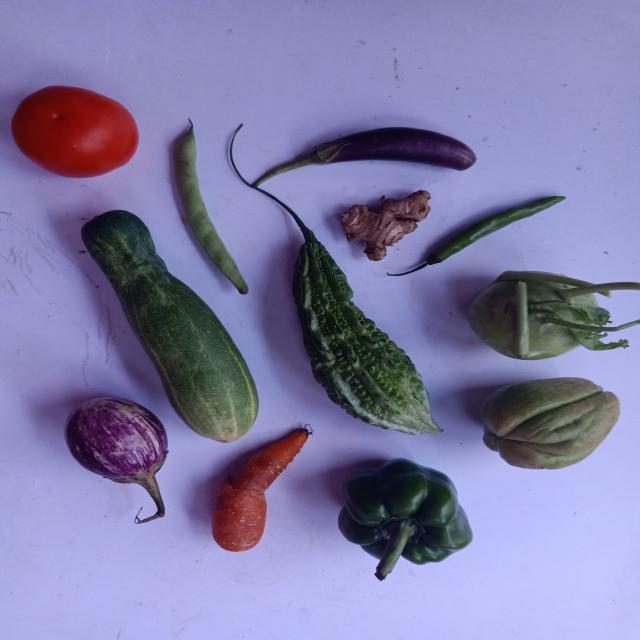Beans: (173, 120, 248, 294)
Bitter Gourd: (254, 187, 440, 434)
Brinjal: (253, 127, 476, 186), (253, 127, 476, 185)
Capsicum: (338, 459, 473, 581)
Carrot: (211, 429, 308, 552)
Chayote: (482, 378, 621, 470)
Cucumber: (80, 210, 258, 443)
Eggplant: (64, 398, 167, 524), (140, 464, 143, 467)
Ginger: (340, 190, 431, 261)
Green Chilly: (396, 196, 565, 275)
Tomato: (10, 85, 137, 177)
Turnip: (469, 271, 640, 360)
